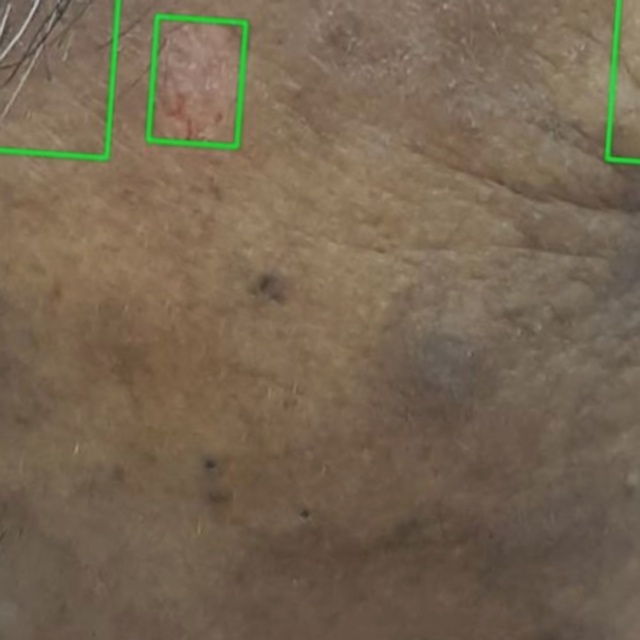Contact Dermatitis: (148, 15, 245, 146)
